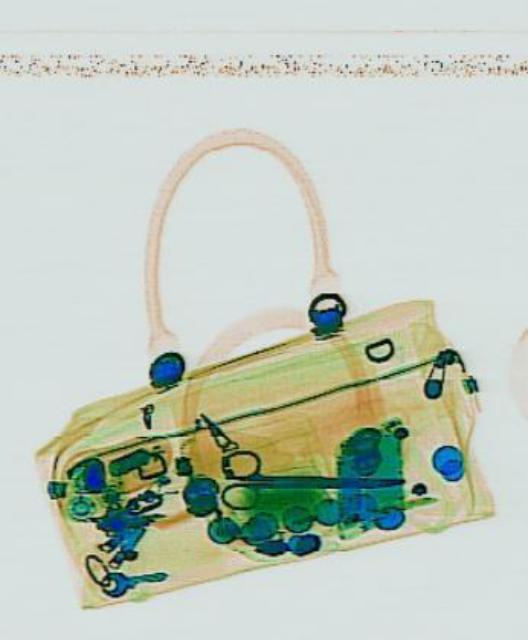Scissors: (217, 446, 400, 512)
